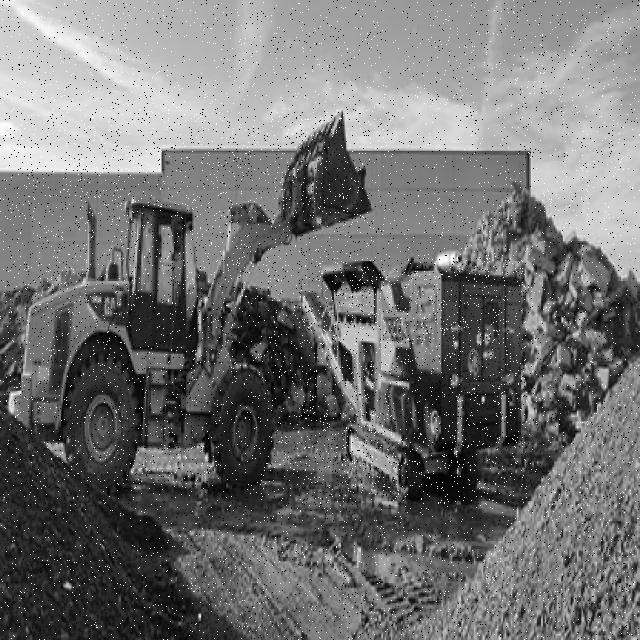Construction Equipment: (5, 112, 372, 492), (297, 258, 527, 503)
